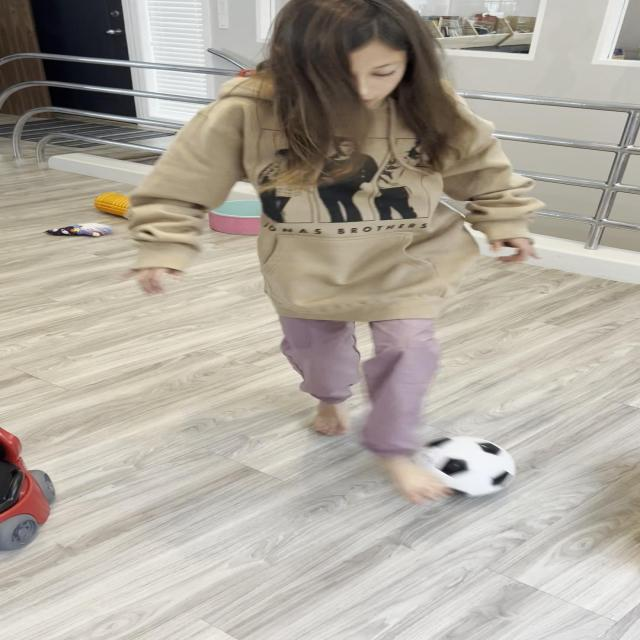Soccer Ball: (414, 436, 519, 498)
